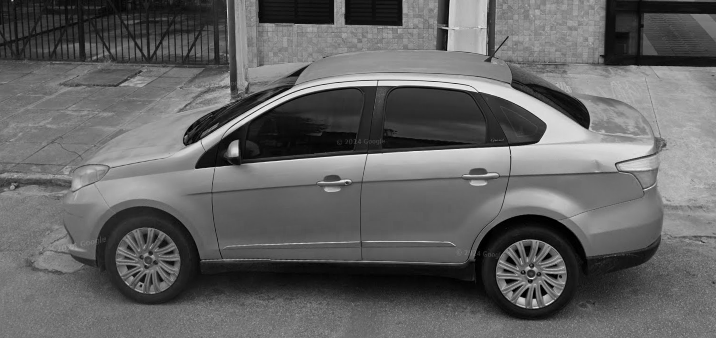car: (62, 48, 669, 322)
